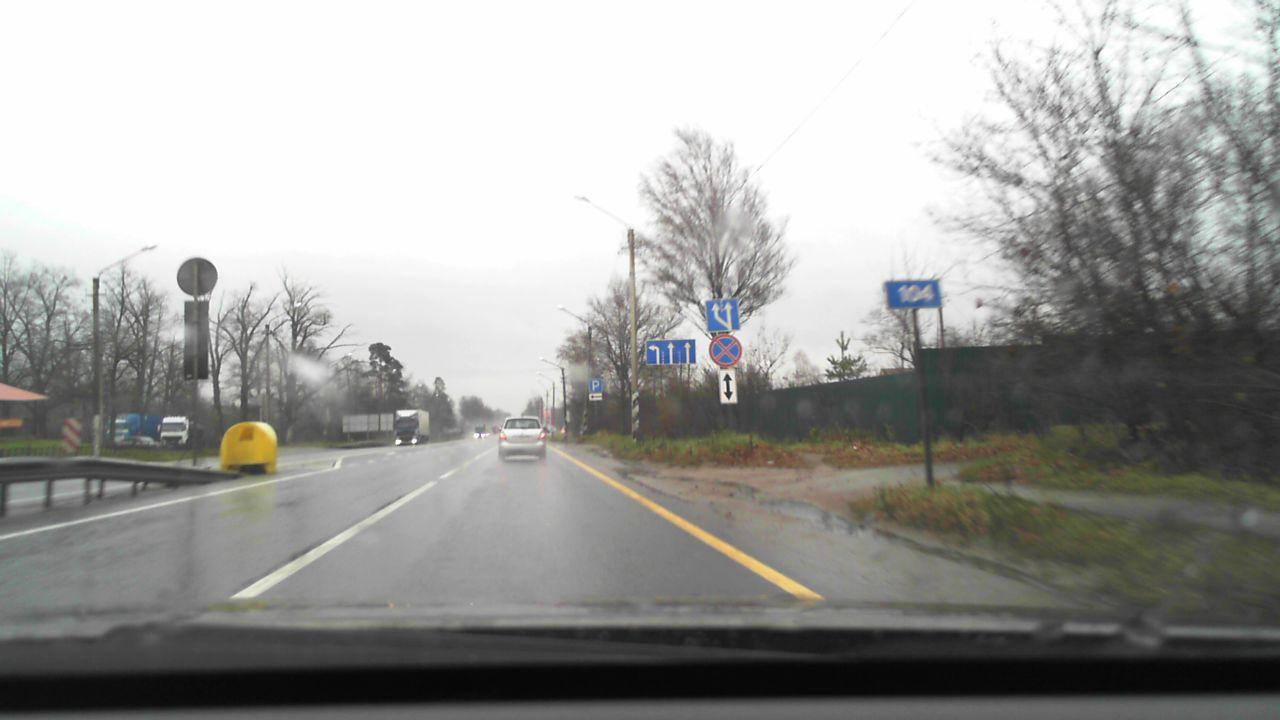3_27: (709, 333, 741, 365)
5_15_1: (646, 339, 696, 365)
5_15_4: (706, 298, 741, 331)
6_4: (589, 378, 604, 393)
8_2_4: (716, 369, 739, 403)
8_3_2: (590, 393, 603, 400)
